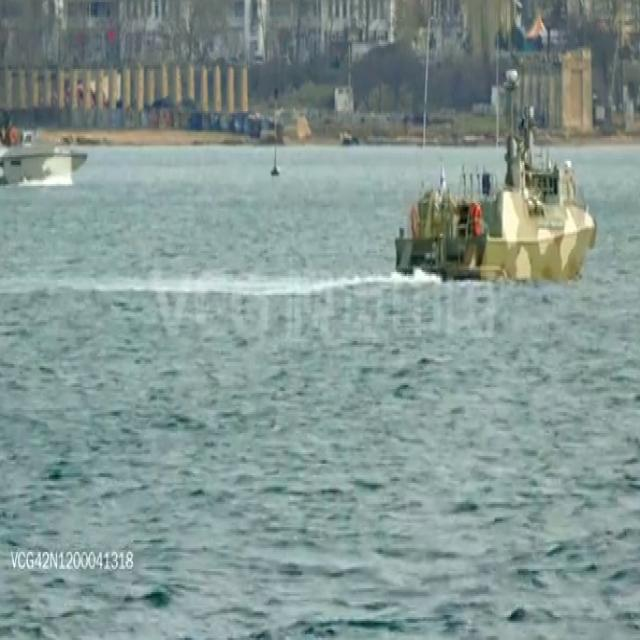houseboat: (386, 72, 594, 280), (0, 90, 87, 190)
